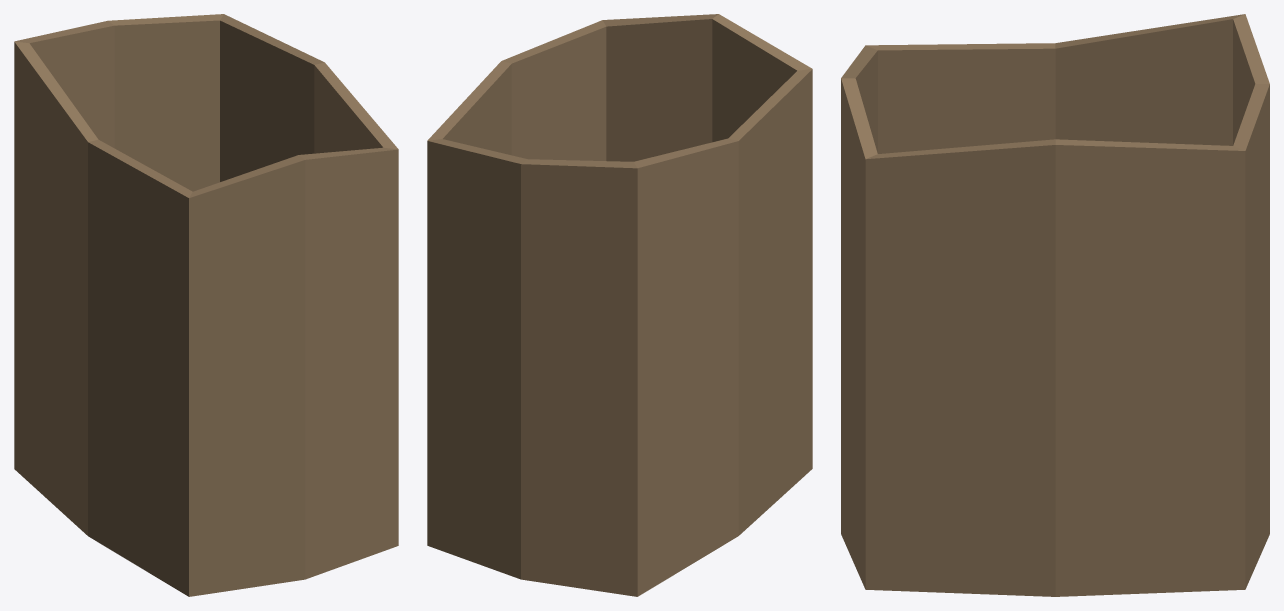
The model's file is fruitBag.fbx.
3 views of the same model, side by side, from view 1: azimuth 30°, elevation 25°; view 2: azimuth 150°, elevation 25°; view 3: azimuth 270°, elevation 25° (orthographic). The views are drawn at different scales.
Visible parts, largest first — view 1: fruitBag; view 2: fruitBag; view 3: fruitBag.
Part boxes in pixels (x1,y1,x2,y2): fruitBag: (14,14,398,596); fruitBag: (427,14,812,596); fruitBag: (841,14,1269,596).
Bounding box in the file's own units: 16.52 × 28.49 × 23.84.
1 material, 1 textured.
